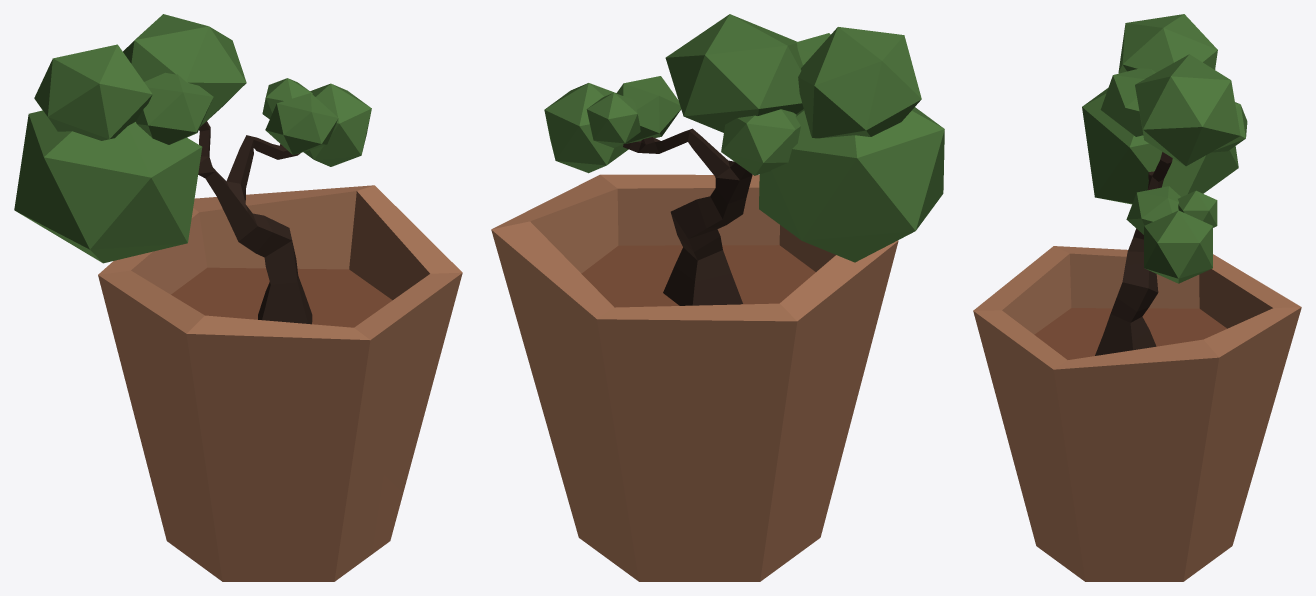
Rendered from flower-pot.glb.
The picture shows the model from 3 angles, left to right: view 1: azimuth 30°, elevation 25°; view 2: azimuth 150°, elevation 25°; view 3: azimuth 270°, elevation 25°; orthographic projection. The views are drawn at different scales.
Parts seen in each view (by area): view 1: Flower Pot, Icosphere.011, Icosphere.014, Tree.001, Icosphere.012, Icosphere.013, Icosphere.009, Icosphere.016, Icosphere.010; view 2: Flower Pot, Icosphere.011, Icosphere.012, Icosphere.014, Tree.001, Icosphere.009, Icosphere.015, Icosphere.016, Icosphere.010; view 3: Flower Pot, Icosphere.012, Icosphere.011, Tree.001, Icosphere.014, Icosphere.009, Icosphere.013, Icosphere.016, Icosphere.010, Icosphere.015.
Boxes of the visible parts, x1=… form: Flower Pot: x1=98, y1=185, x2=462, y2=581; Icosphere.011: x1=14, y1=110, x2=202, y2=263; Icosphere.014: x1=34, y1=44, x2=152, y2=140; Tree.001: x1=198, y1=121, x2=312, y2=324; Icosphere.012: x1=123, y1=14, x2=246, y2=126; Icosphere.013: x1=136, y1=72, x2=213, y2=144; Icosphere.009: x1=303, y1=83, x2=371, y2=166; Icosphere.016: x1=265, y1=93, x2=338, y2=154; Icosphere.010: x1=262, y1=78, x2=312, y2=119; Flower Pot: x1=491, y1=174, x2=898, y2=581; Icosphere.011: x1=759, y1=107, x2=944, y2=262; Icosphere.012: x1=665, y1=14, x2=803, y2=132; Icosphere.014: x1=798, y1=27, x2=921, y2=138; Tree.001: x1=623, y1=128, x2=752, y2=305; Icosphere.009: x1=544, y1=83, x2=628, y2=173; Icosphere.015: x1=721, y1=109, x2=800, y2=175; Icosphere.016: x1=616, y1=76, x2=681, y2=143; Icosphere.010: x1=586, y1=92, x2=640, y2=147; Flower Pot: x1=973, y1=246, x2=1301, y2=581; Icosphere.012: x1=1135, y1=54, x2=1240, y2=166; Icosphere.011: x1=1082, y1=88, x2=1238, y2=204; Tree.001: x1=1095, y1=152, x2=1172, y2=355; Icosphere.014: x1=1118, y1=14, x2=1217, y2=73; Icosphere.009: x1=1144, y1=210, x2=1212, y2=283; Icosphere.013: x1=1100, y1=68, x2=1155, y2=136; Icosphere.016: x1=1126, y1=186, x2=1180, y2=234; Icosphere.010: x1=1178, y1=190, x2=1217, y2=227; Icosphere.015: x1=1211, y1=102, x2=1247, y2=152.
Size of the model in its own units: 2.4 by 3.16 by 2.06.
Materials: 1 (1 with a texture image).
